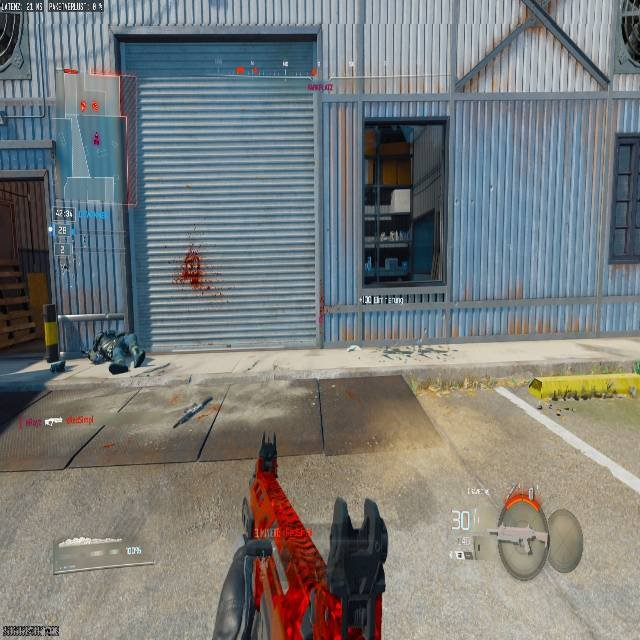head: (85, 348, 105, 365), (108, 359, 129, 374)
